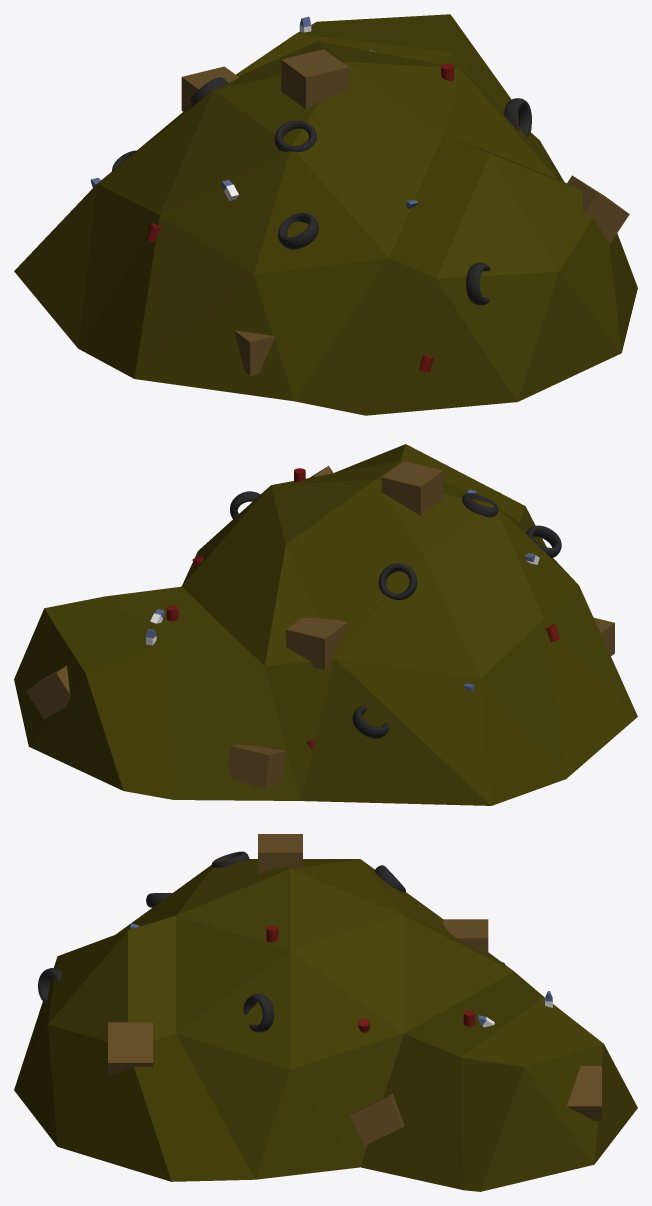
File: Trash5.fbx
3 renders of one model, top to bottom at view 1: azimuth 30°, elevation 25°; view 2: azimuth 150°, elevation 25°; view 3: azimuth 270°, elevation 25°, orthographic. The views are drawn at different scales.
Visible parts, largest first — view 1: Icosphere; view 2: Icosphere; view 3: Icosphere.
Boxes of the visible parts, x1=… form: Icosphere: x1=14, y1=14, x2=637, y2=415; Icosphere: x1=14, y1=444, x2=637, y2=805; Icosphere: x1=14, y1=834, x2=637, y2=1191.
Bounding box in the file's own units: 14588 × 6713 × 16064.
